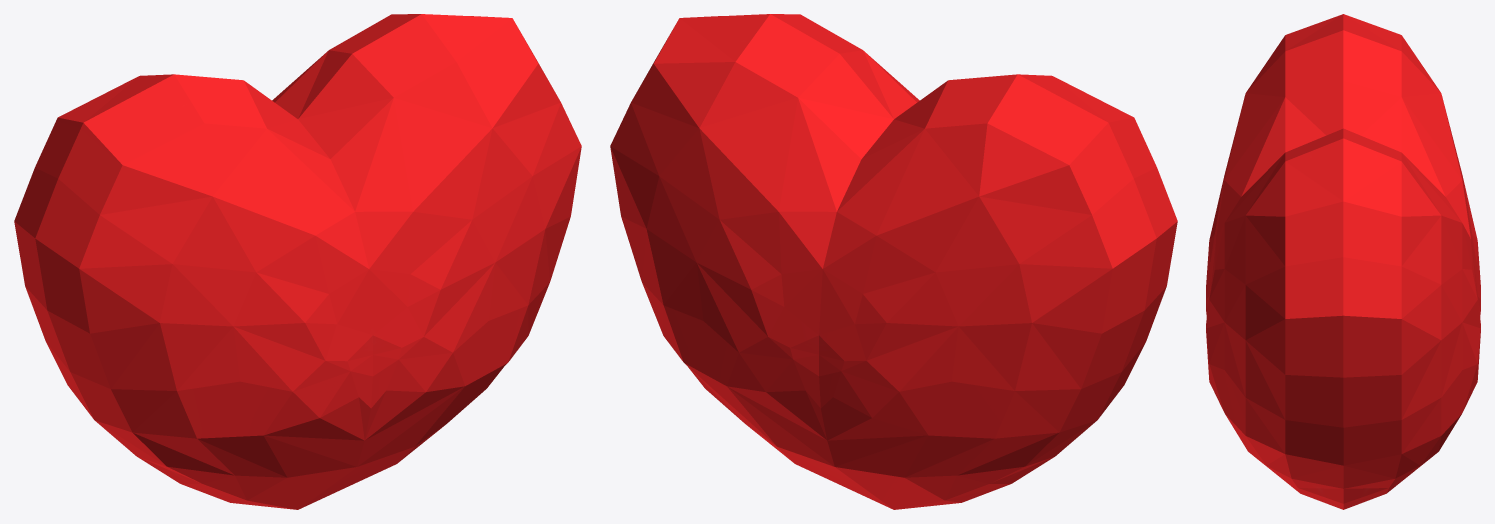
File: newheart.glb
3 views of the same model, side by side, from view 1: azimuth 30°, elevation 25°; view 2: azimuth 150°, elevation 25°; view 3: azimuth 270°, elevation 25° (orthographic). The views are drawn at different scales.
Visible parts, largest first — view 1: Cube_Cube.001; view 2: Cube_Cube.001; view 3: Cube_Cube.001.
Boxes of the visible parts, x1=… form: Cube_Cube.001: x1=14, y1=14, x2=581, y2=509; Cube_Cube.001: x1=610, y1=14, x2=1177, y2=509; Cube_Cube.001: x1=1206, y1=14, x2=1480, y2=509.
Bounding box in the file's own units: 4.5 × 3.81 × 2.28.
1 material, 1 textured.
